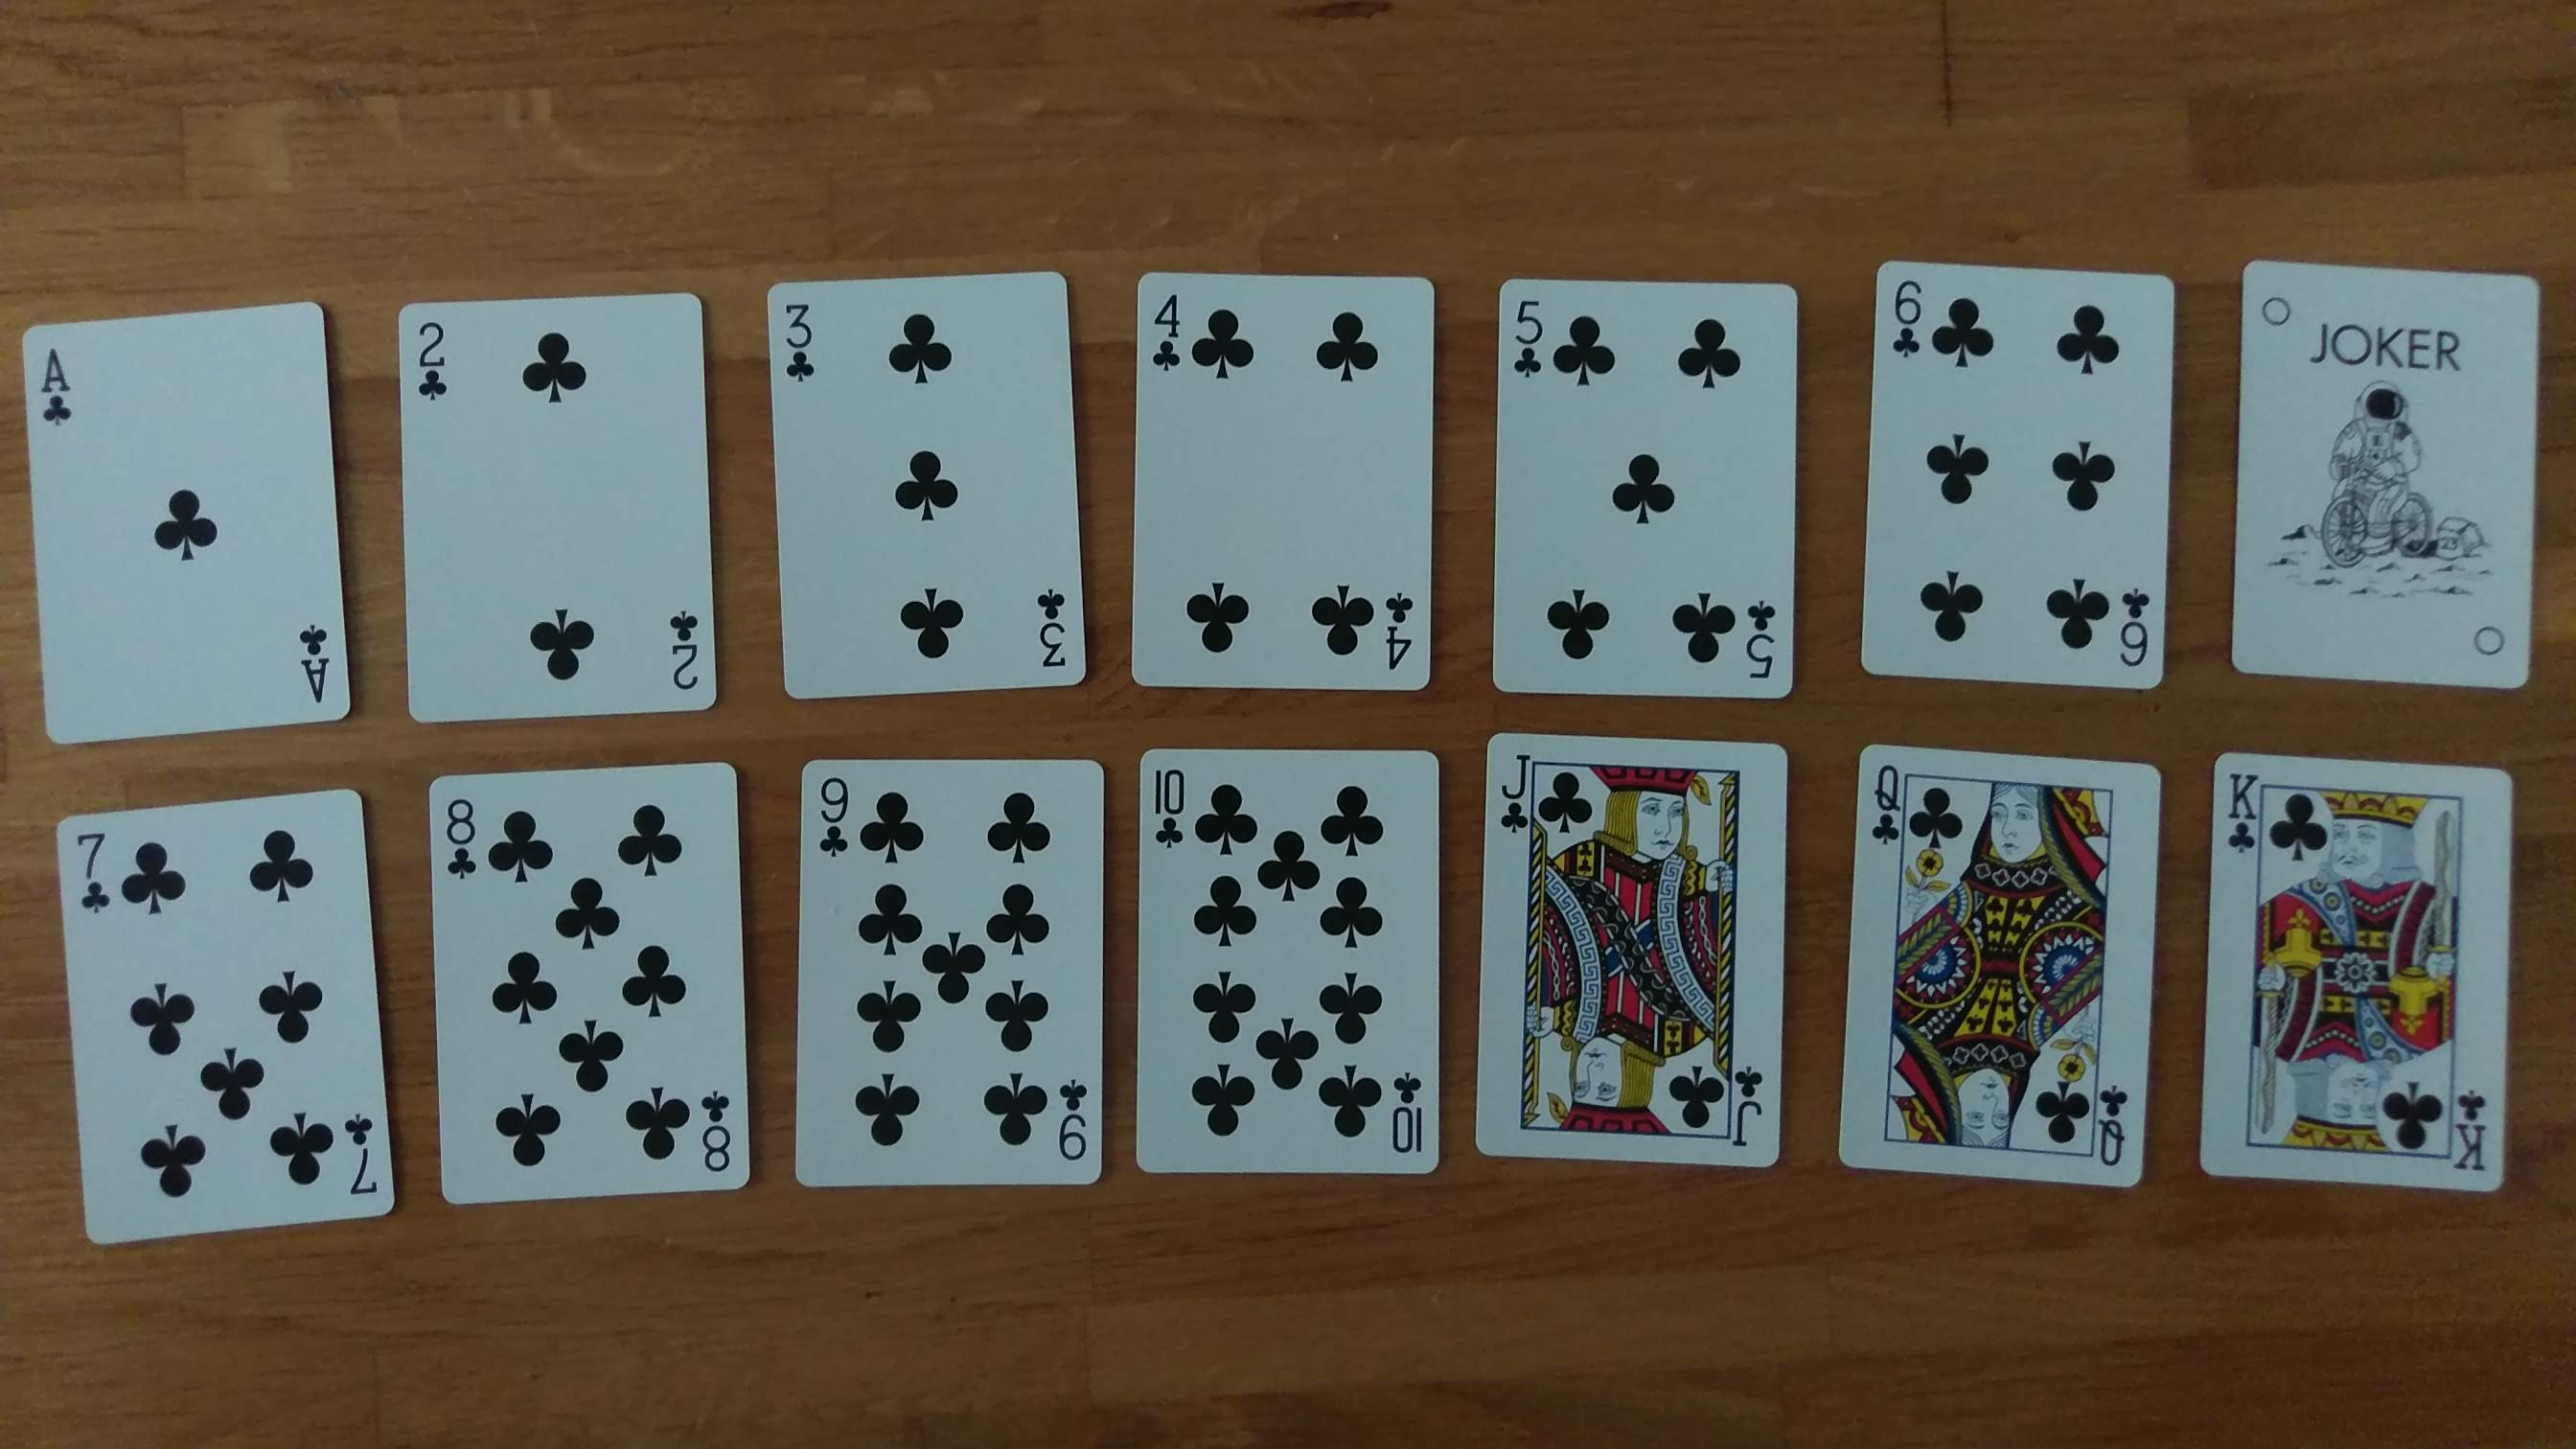10F: (1375, 1053, 1442, 1182), (1145, 747, 1191, 860)
1F: (271, 593, 357, 722), (23, 327, 96, 441)
2F: (633, 580, 720, 715), (398, 297, 464, 419)
3F: (766, 278, 828, 395), (1019, 570, 1074, 686)
4F: (1364, 573, 1430, 702), (1141, 274, 1201, 402)
5F: (1739, 580, 1798, 720), (1499, 274, 1569, 389)
6F: (2097, 570, 2157, 688), (1882, 258, 1934, 384)
7F: (57, 798, 131, 939), (327, 1100, 389, 1217)
8F: (430, 775, 494, 899), (688, 1086, 738, 1182)
9F: (805, 752, 860, 886), (1042, 1072, 1100, 1191)
JF: (1491, 736, 1543, 844), (1721, 1054, 1767, 1168)
KF: (2442, 1077, 2493, 1182), (2224, 763, 2265, 849)
QF: (1859, 738, 1907, 842), (2095, 1077, 2135, 1184)
